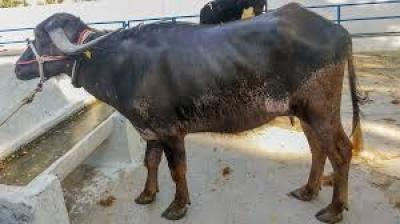buffalo: (15, 3, 359, 223)
